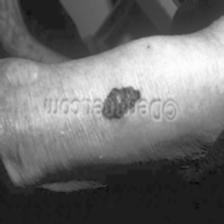Potentially Malignant Skin Tumors: (101, 87, 143, 121)
